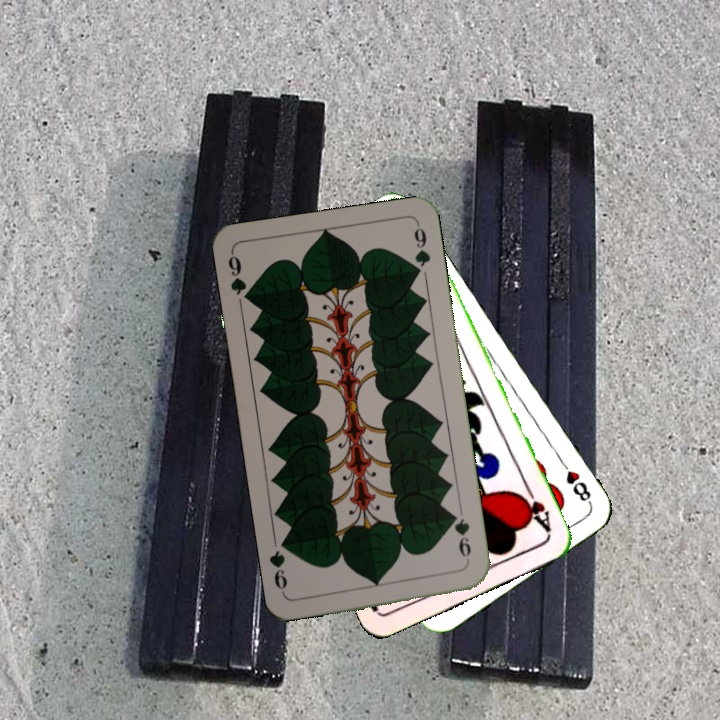G9: (224, 249, 255, 306), (447, 509, 474, 567)
H8: (555, 455, 595, 507)
HA: (514, 481, 554, 537)
